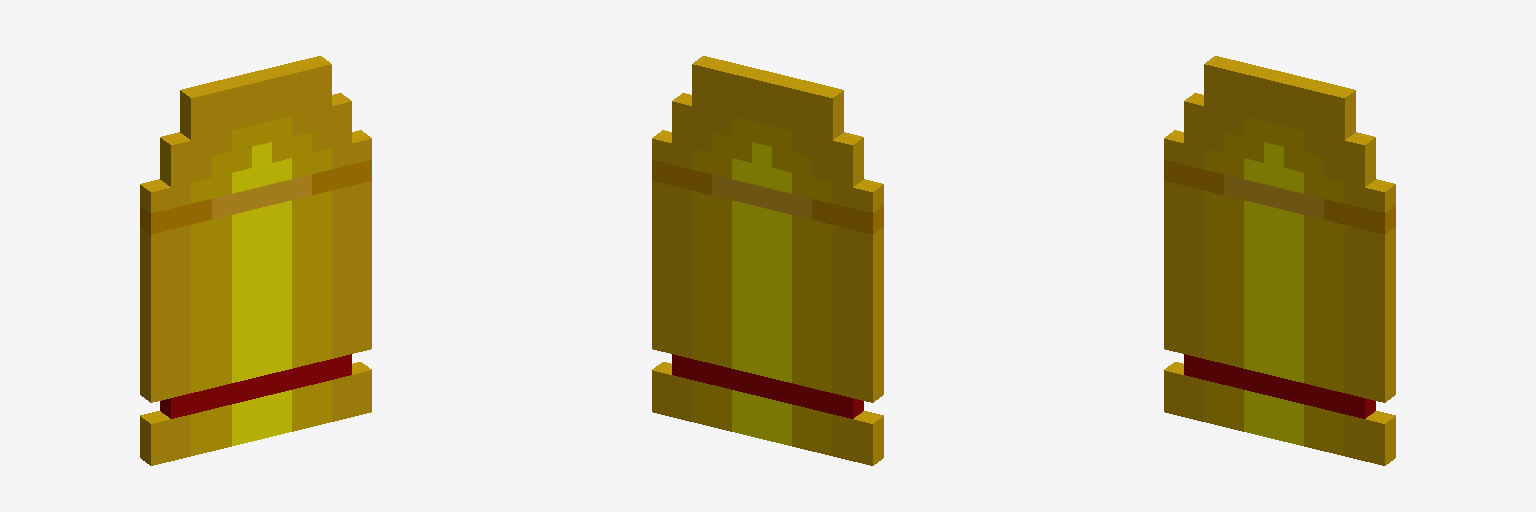
The picture shows the model from 3 angles: view 1: azimuth 30°, elevation 25°; view 2: azimuth 150°, elevation 25°; view 3: azimuth 330°, elevation 25°; orthographic projection.
Visible parts, largest first — view 1: object 1; view 2: object 1; view 3: object 1.
Boxes of the visible parts, box(x1,y1,x2,y2) form: object 1: box(140, 56, 371, 465); object 1: box(652, 56, 883, 465); object 1: box(1164, 56, 1395, 465).
Bounding box in the file's own units: 1.1 × 1.7 × 0.1.
Materials: 1 (1 with a texture image).